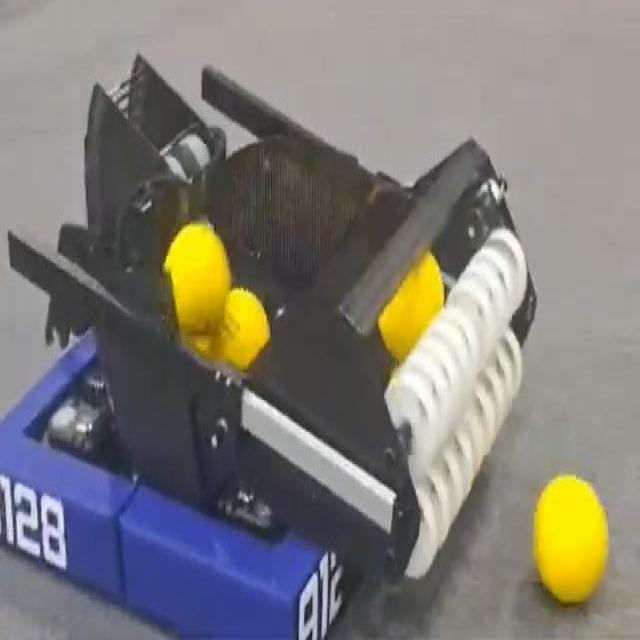Fuel: (533, 474, 607, 602), (162, 220, 231, 337), (163, 222, 231, 334), (378, 252, 444, 361), (213, 288, 269, 370)
